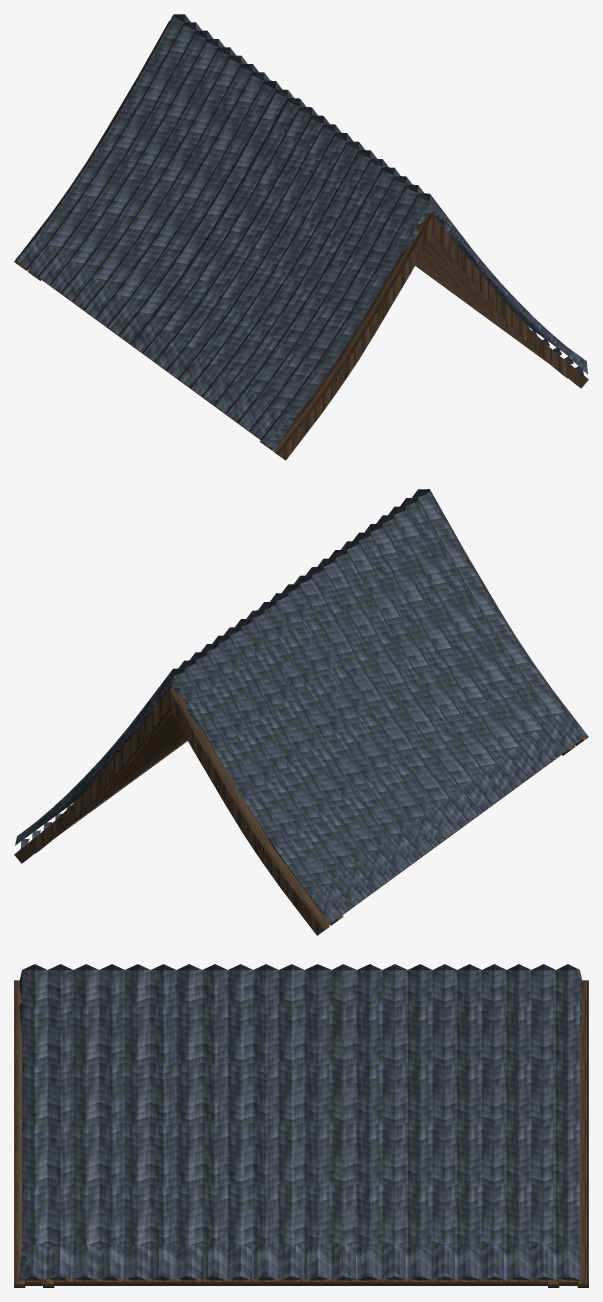
File: Roof_Slate_6x10.gltf
3 views of the same model, one above another, from view 1: azimuth 30°, elevation 25°; view 2: azimuth 150°, elevation 25°; view 3: azimuth 270°, elevation 25° (orthographic). The views are drawn at different scales.
Visible parts, largest first — view 1: Roof_Slate_6x10; view 2: Roof_Slate_6x10; view 3: Roof_Slate_6x10.
Part boxes in pixels (left/top/right/bottom): Roof_Slate_6x10: left=14, top=14, right=588, bottom=460; Roof_Slate_6x10: left=14, top=489, right=588, bottom=935; Roof_Slate_6x10: left=14, top=964, right=588, bottom=1287.
Bounding box in the file's own units: 8.25 × 5.42 × 11.66.
Materials: 2 (2 with a texture image).
